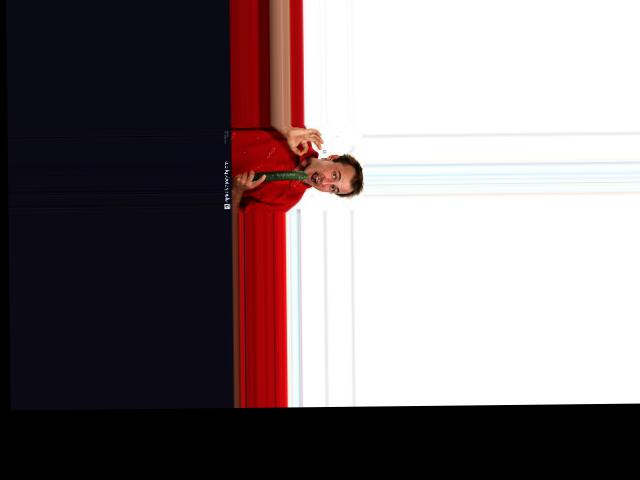cucumber: (253, 171, 308, 179)
